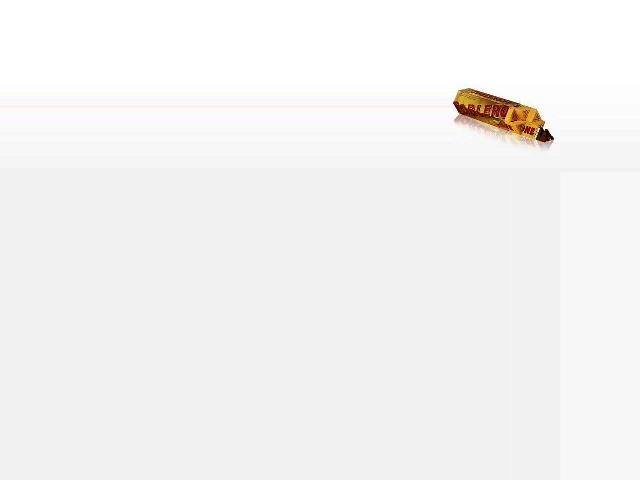chocolate: (454, 86, 554, 146)
